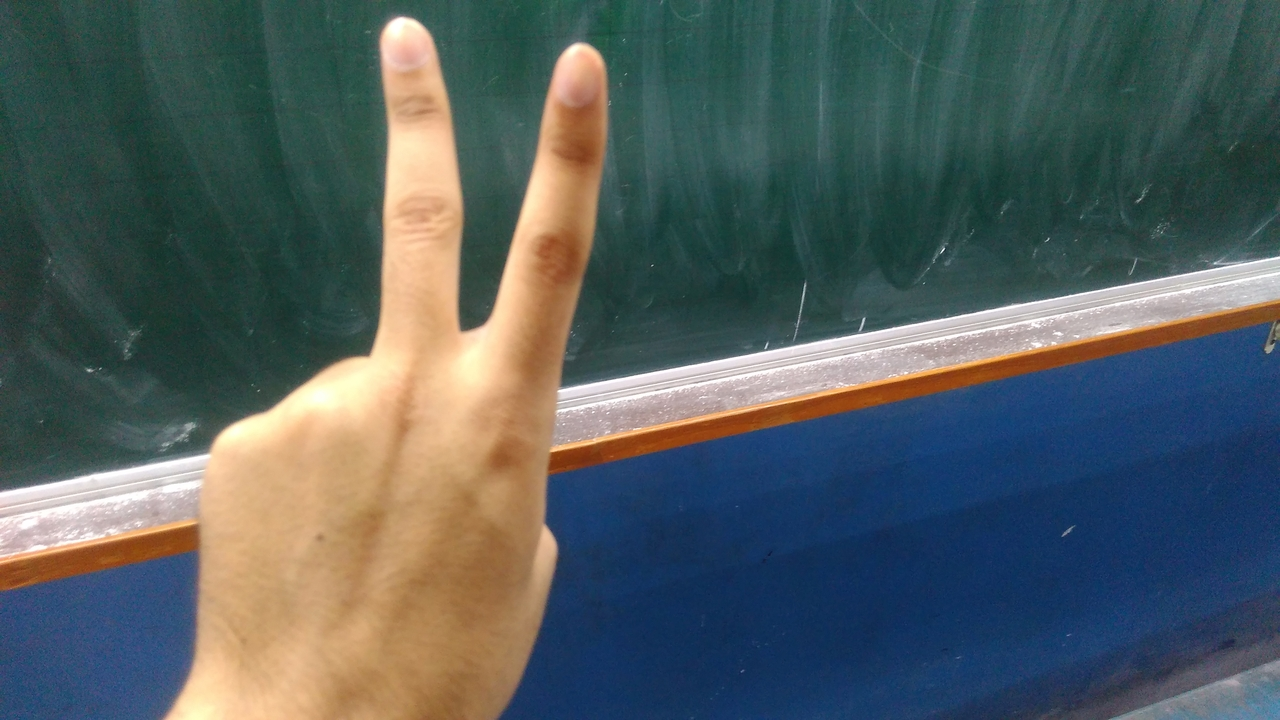fingertip: (548, 34, 608, 106), (374, 10, 432, 72)
